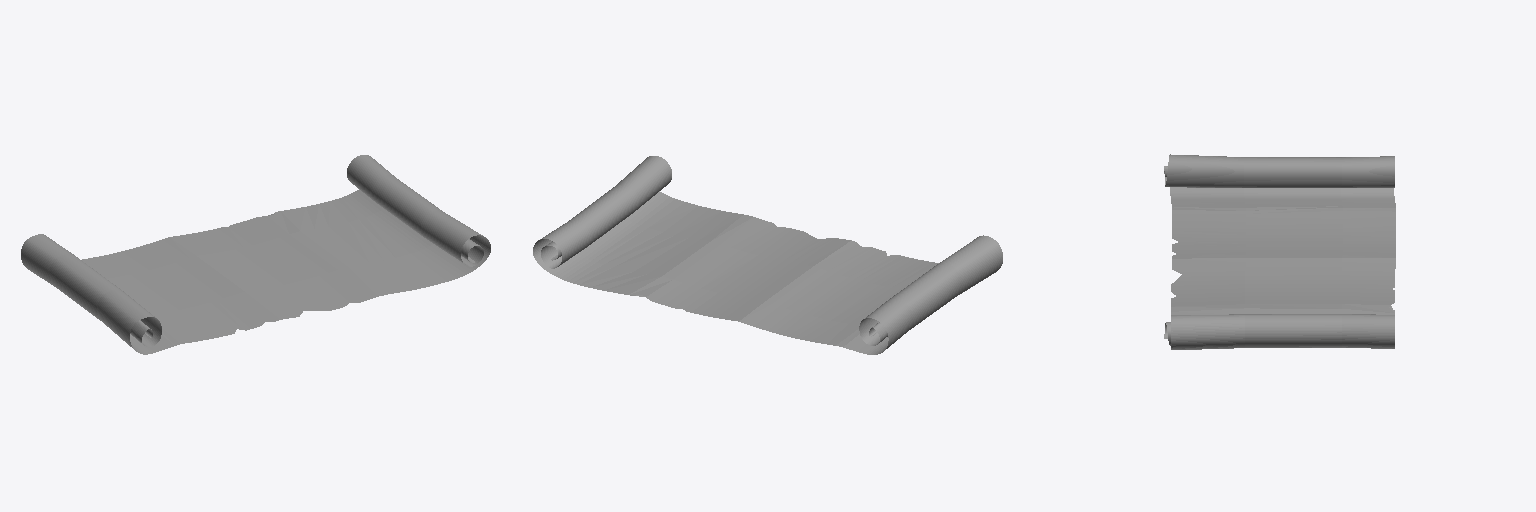
Rendered from old-map.obj.
3 renders of one model, left to right at view 1: azimuth 30°, elevation 25°; view 2: azimuth 150°, elevation 25°; view 3: azimuth 270°, elevation 25°, orthographic.
Parts seen in each view (by area): view 1: BezierCurve_CUBezierCurve; view 2: BezierCurve_CUBezierCurve; view 3: BezierCurve_CUBezierCurve.
Boxes of the visible parts, box(x1,y1,x2,y2) form: BezierCurve_CUBezierCurve: box(21, 155, 490, 354); BezierCurve_CUBezierCurve: box(533, 156, 1002, 354); BezierCurve_CUBezierCurve: box(1164, 154, 1395, 349).
Bounding box in the file's own units: 4.68 × 0.4918 × 2.6.